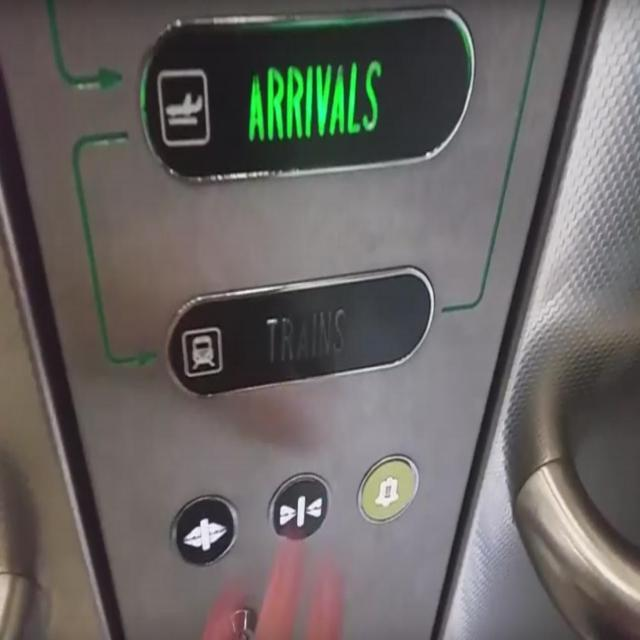alarm: (356, 452, 422, 525)
close: (267, 471, 332, 544)
open: (169, 490, 240, 570)
